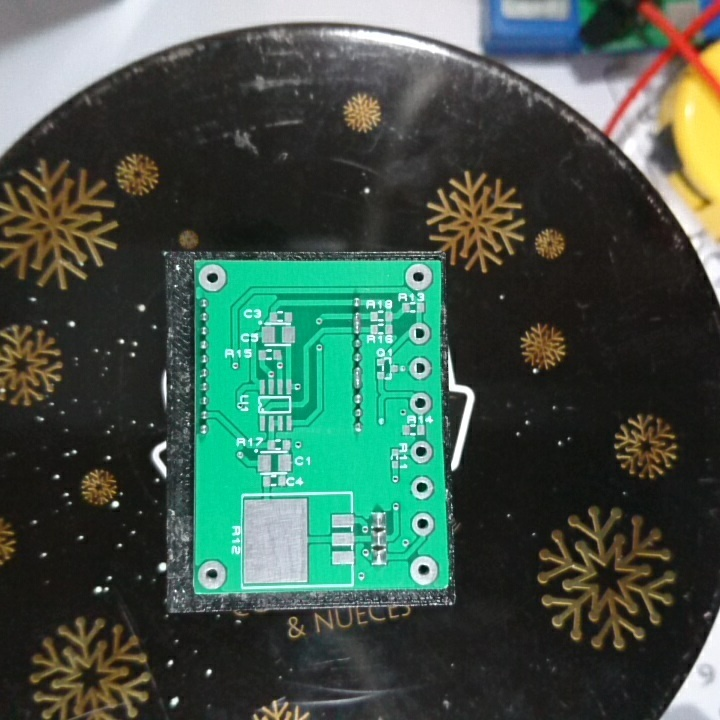F: (196, 558, 229, 590), (197, 262, 230, 294), (407, 554, 441, 585), (404, 473, 441, 501), (404, 264, 436, 293), (407, 438, 436, 468), (409, 509, 439, 538), (407, 318, 435, 348), (407, 388, 435, 418), (407, 355, 432, 382)
P: (347, 364, 372, 392), (350, 308, 368, 336)
